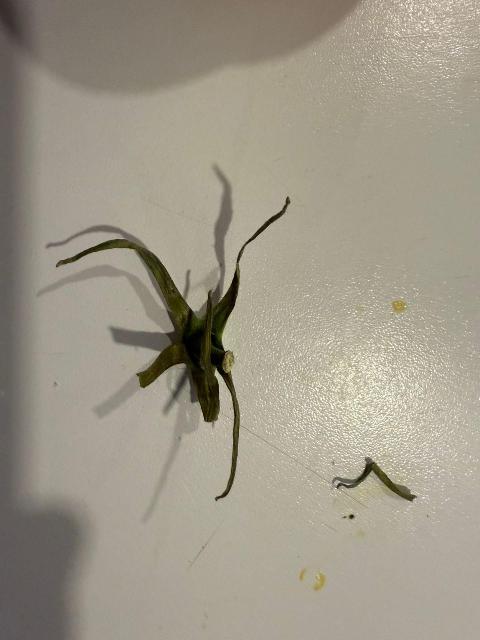Organik: (49, 195, 315, 520), (337, 448, 420, 508)
